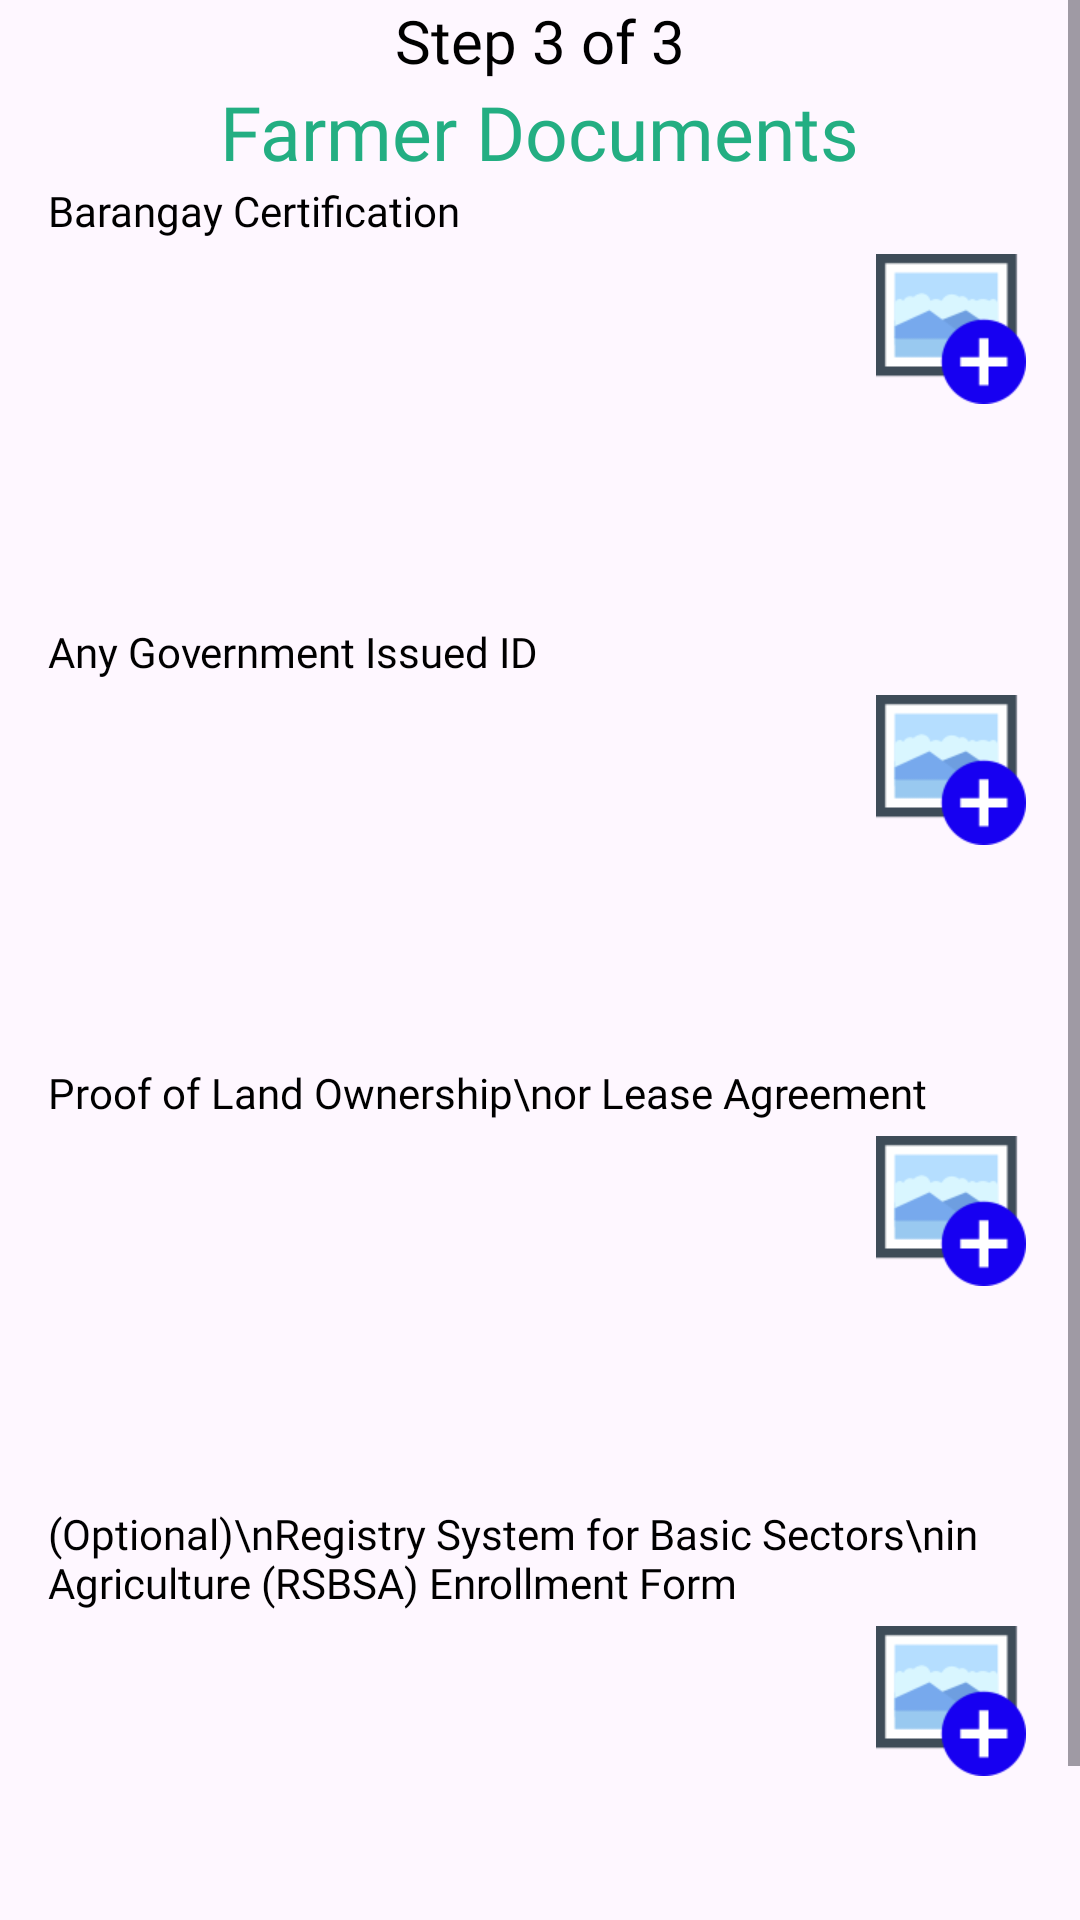

Icons on this 1080 × 1920 Android screen, each with its box as (x1,y1,x2,y2):
upload: (876,254,1026,404), (876,695,1026,845), (876,1136,1026,1286), (876,1626,1026,1776)
